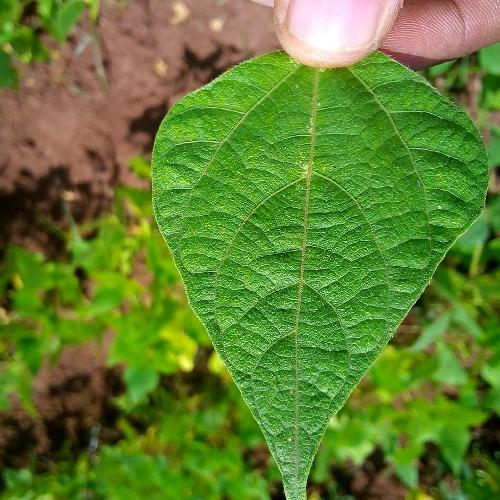sehat: (154, 72, 431, 315)
